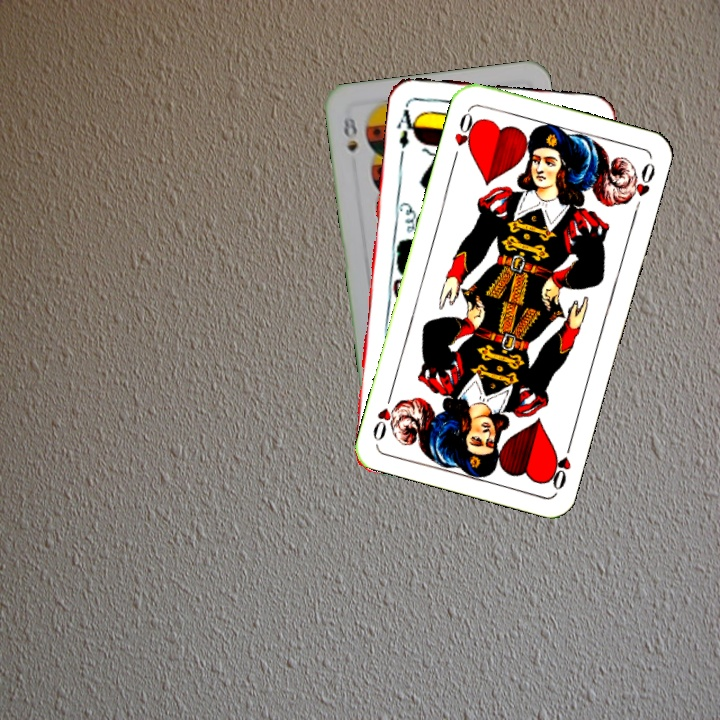EA: (392, 99, 421, 151)
HO: (449, 106, 481, 164), (545, 435, 575, 493)
S8: (339, 113, 360, 154)
